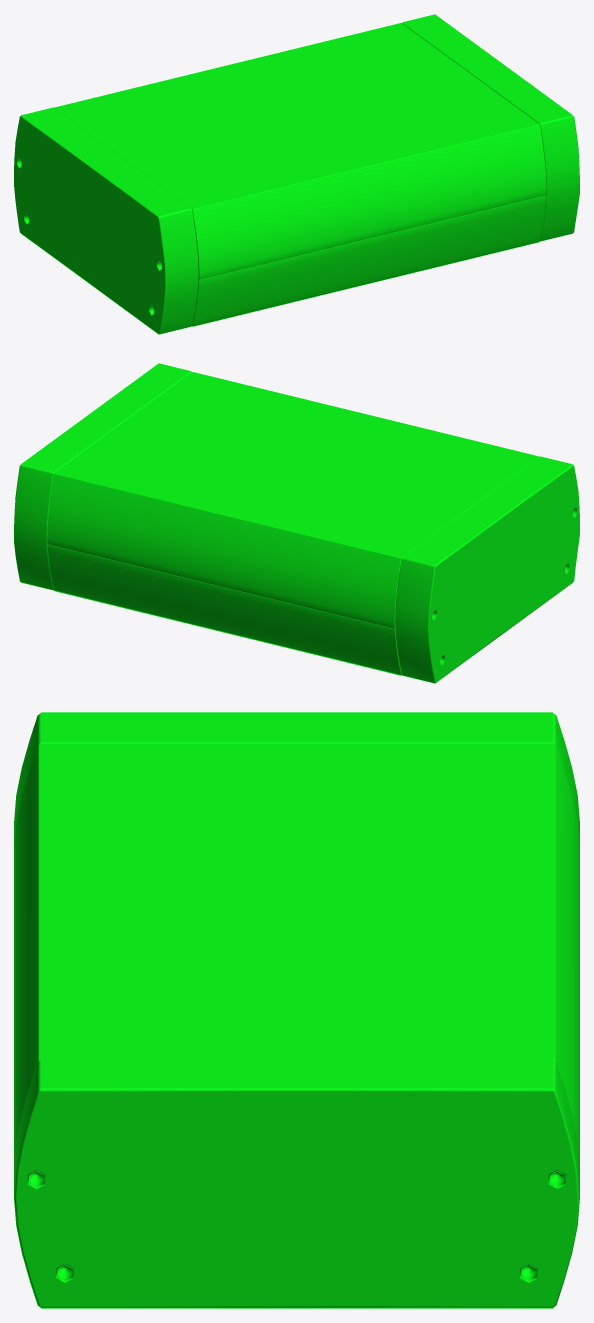
Rendered from Incubator02.FBX.
The picture shows the model from 3 angles, top to bottom: view 1: azimuth 30°, elevation 25°; view 2: azimuth 150°, elevation 25°; view 3: azimuth 270°, elevation 25°; orthographic projection. The views are drawn at different scales.
Parts seen in each view (by area): view 1: Incubator02_Glass, Incubator02; view 2: Incubator02_Glass, Incubator02; view 3: Incubator02_Glass, Incubator02.
Boxes of the visible parts, bbox=[...] form: Incubator02_Glass: bbox=[54, 23, 546, 279]; Incubator02: bbox=[14, 14, 579, 334]; Incubator02_Glass: bbox=[47, 372, 539, 628]; Incubator02: bbox=[14, 363, 579, 683]; Incubator02_Glass: bbox=[14, 744, 579, 1166]; Incubator02: bbox=[14, 712, 579, 1308].
Bounding box in the file's own units: 46.06 × 12.55 × 29.17.
